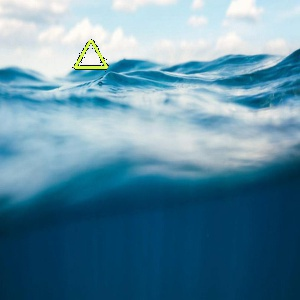triangle: (69, 36, 111, 72)
